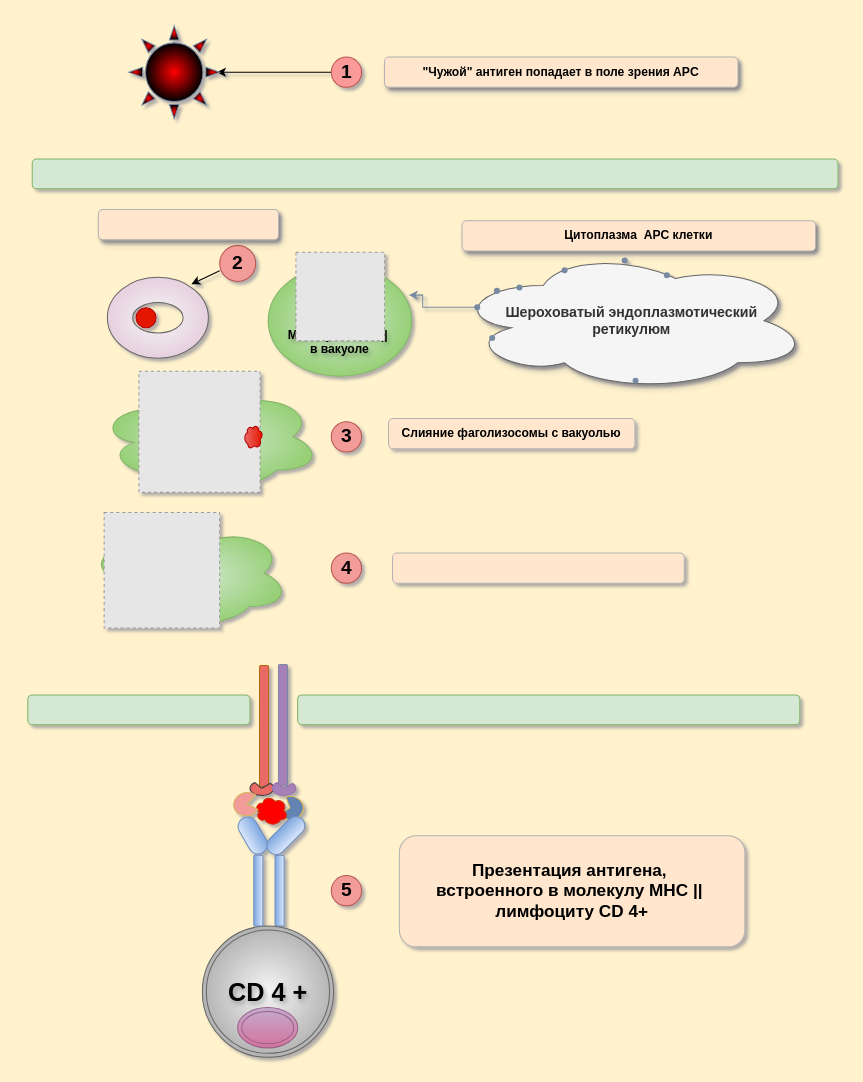
The diagram is 863 pixels wide and 1082 high, and some of its shapes have lost their labels. Grey dashed boxes stand in for pictures. The centre of each missing label's shape, as x and y in pixels:
AG: the point at 271,810
Антиген: the point at 174,72
Антиген встроен в молекулу class МНС ||: the point at 537,567
Мембрана APC (Антигенпрезентирующей) клетки: the point at 434,173
Мембрана АРС клетки: the point at 548,709
Фаголизосома с AG: the point at 189,226
